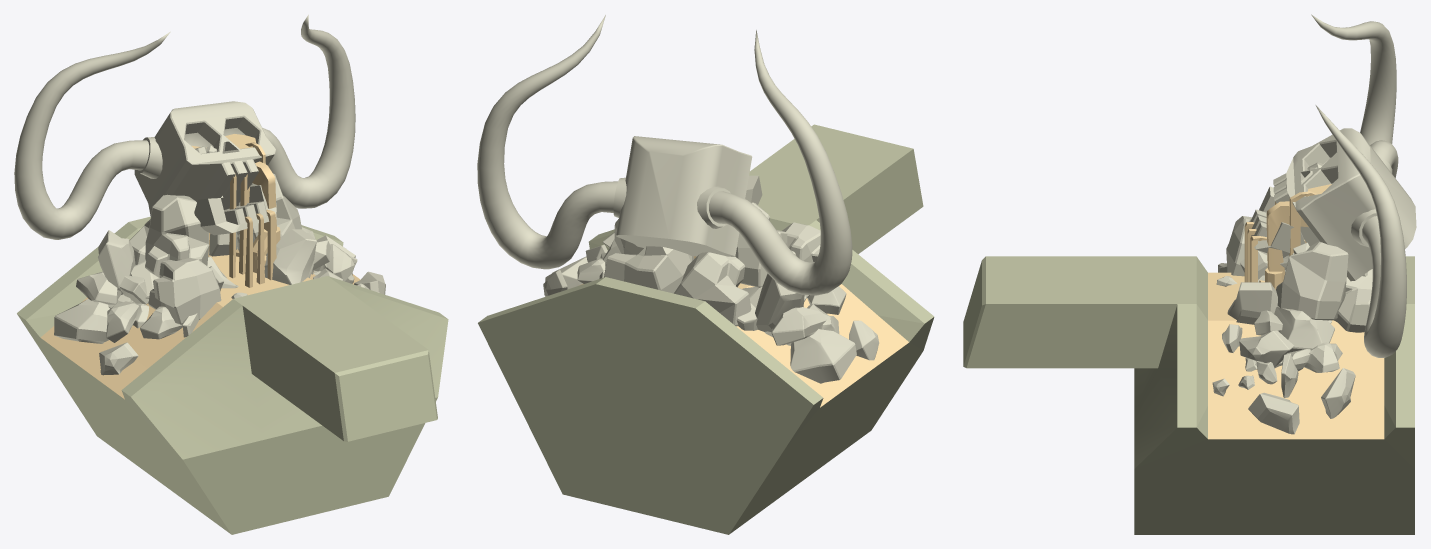
The model's file is aarena_DC_skull_area.fbx.
3 renders of one model, left to right at view 1: azimuth 30°, elevation 25°; view 2: azimuth 150°, elevation 25°; view 3: azimuth 270°, elevation 25°, orthographic. The views are drawn at different scales.
Visible parts, largest first — view 1: gate_back5, rocks, horn2, skull1, horn1, sand, Boulder_1, Boulder_2, jaw, Boulder_3, horn_base2; view 2: gate_back5, skull1, horn2, horn1, rocks, Boulder_5, Boulder_4, Boulder_2, Boulder_1, horn_base2; view 3: gate_back5, rocks, skull1, horn1, horn2, Boulder_3, sand, Boulder_4, jaw, Boulder_2.
Boxes of the visible parts, x1,y1,x2,y2 form: gate_back5: (17,216,448,534); rocks: (54,227,385,375); horn2: (14,31,170,239); skull1: (134,101,275,216); horn1: (262,14,355,208); sand: (191,134,280,287); Boulder_1: (145,194,209,277); Boulder_2: (148,258,221,324); jaw: (194,184,276,235); Boulder_3: (237,173,301,251); horn_base2: (137,137,162,178); gate_back5: (478,124,934,534); skull1: (616,136,752,256); horn2: (709,30,852,295); horn1: (477,15,617,269); rocks: (543,232,879,383); Boulder_5: (674,252,751,326); Boulder_4: (604,246,694,293); Boulder_2: (782,222,820,298); Boulder_1: (735,202,795,287); horn_base2: (697,186,730,228); gate_back5: (963,256,1414,534); rocks: (1212,242,1355,434); skull1: (1273,128,1416,281); horn1: (1315,105,1406,357); horn2: (1311,14,1398,177); Boulder_3: (1276,241,1348,320); sand: (1244,184,1331,289); Boulder_4: (1333,269,1372,332); jaw: (1249,186,1304,257); Boulder_2: (1226,216,1267,276).
Bounding box in the file's own units: 14.82 × 17.96 × 16.26.
